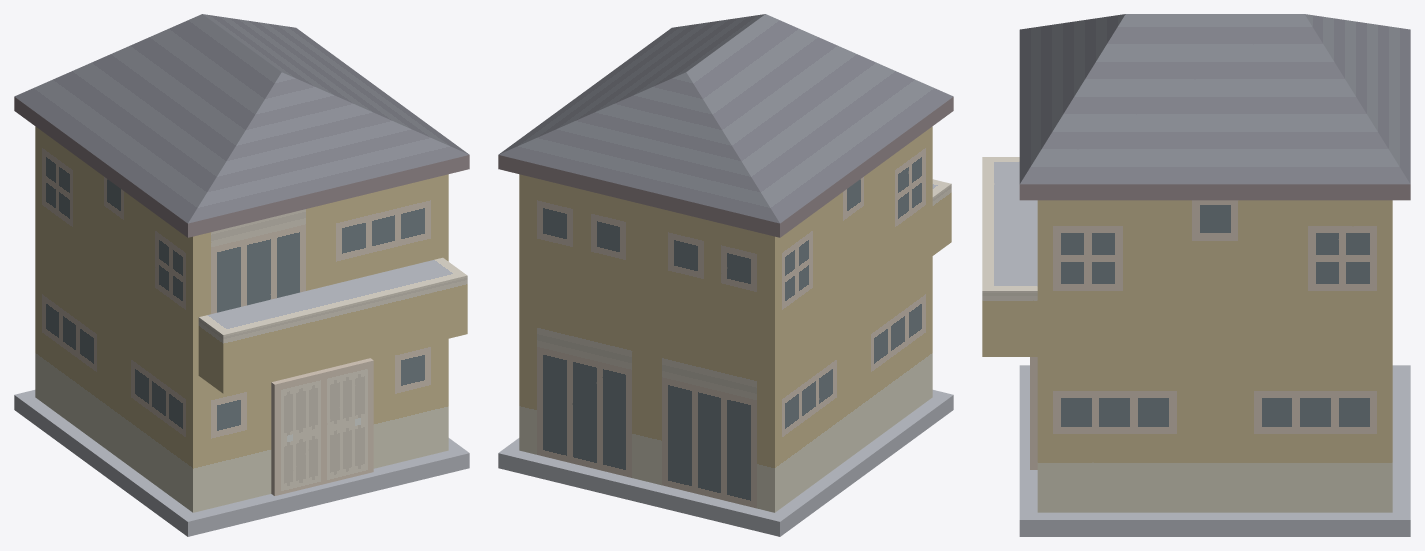
File: 0261_Shimizu_Residence.glb
3 views of the same model, side by side, from view 1: azimuth 30°, elevation 25°; view 2: azimuth 150°, elevation 25°; view 3: azimuth 270°, elevation 25° (orthographic). The views are drawn at different scales.
Visible parts, largest first — view 1: part_0; view 2: part_0; view 3: part_0.
Part boxes in pixels (box(x1,y1,x2,y2)): part_0: box(14, 14, 469, 536); part_0: box(498, 14, 953, 536); part_0: box(982, 14, 1410, 536).
Bounding box in the file's own units: 4.89 × 6.57 × 5.72.
Materials: 1 (1 with a texture image).
